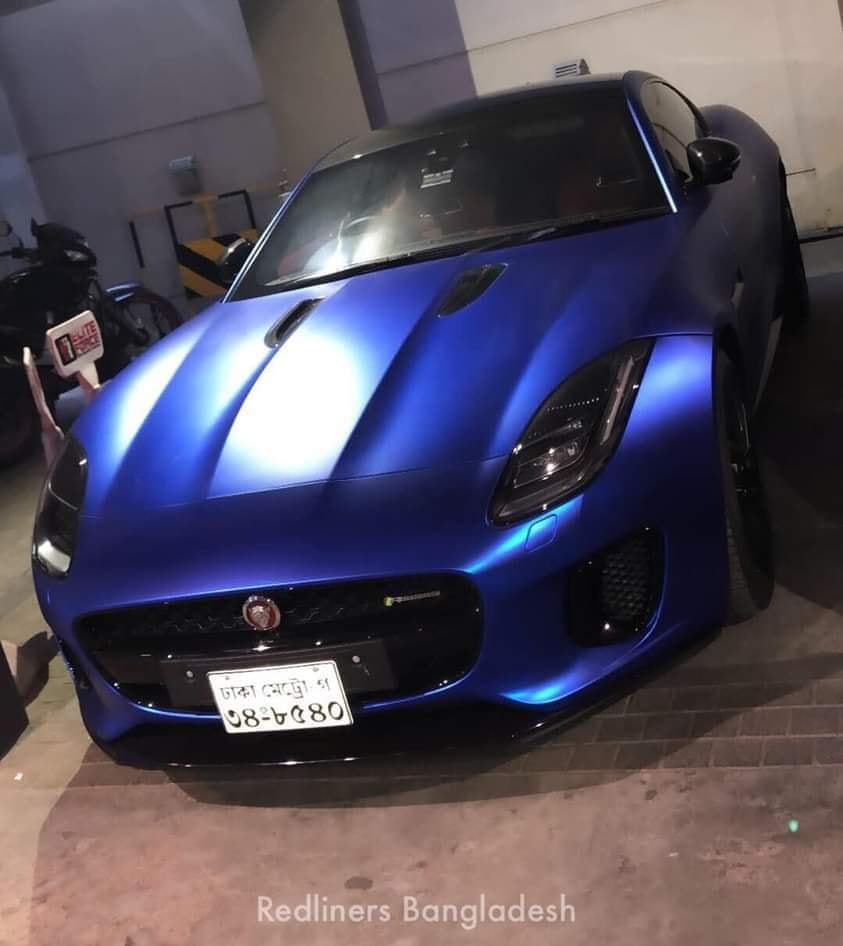registration_plate: (205, 659, 354, 734)
